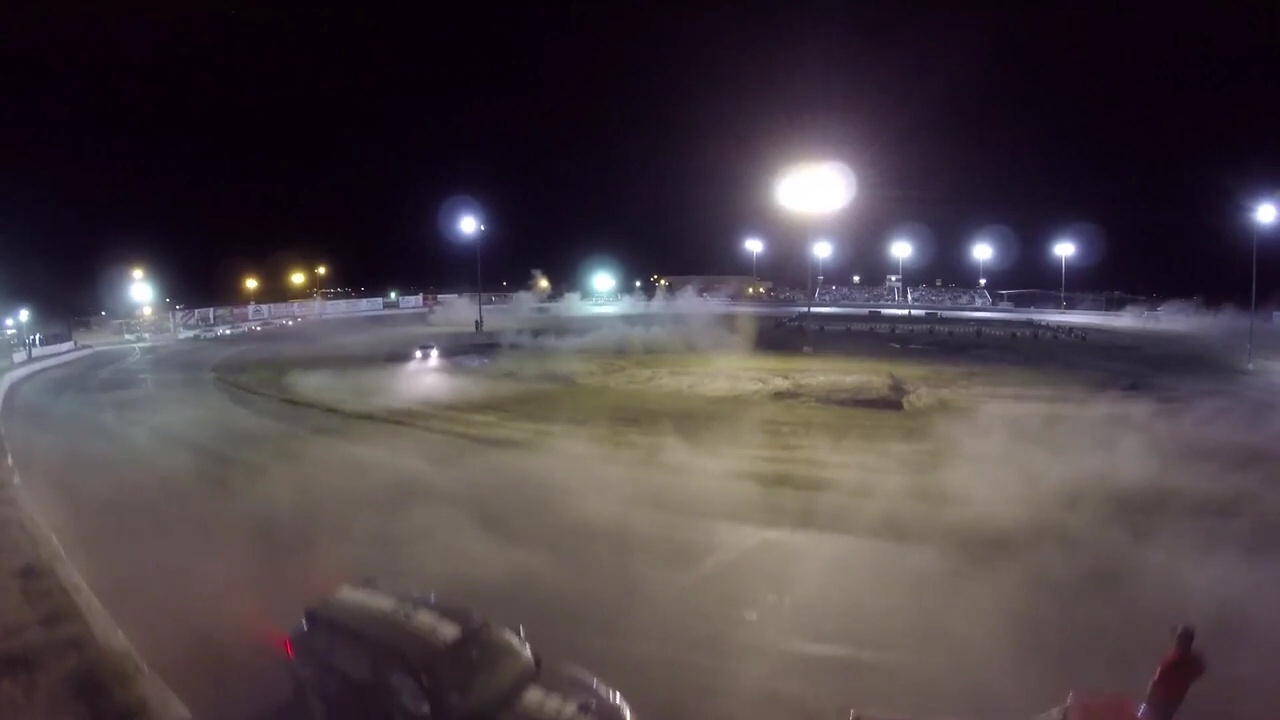araba: (282, 570, 642, 720), (413, 342, 440, 363)
